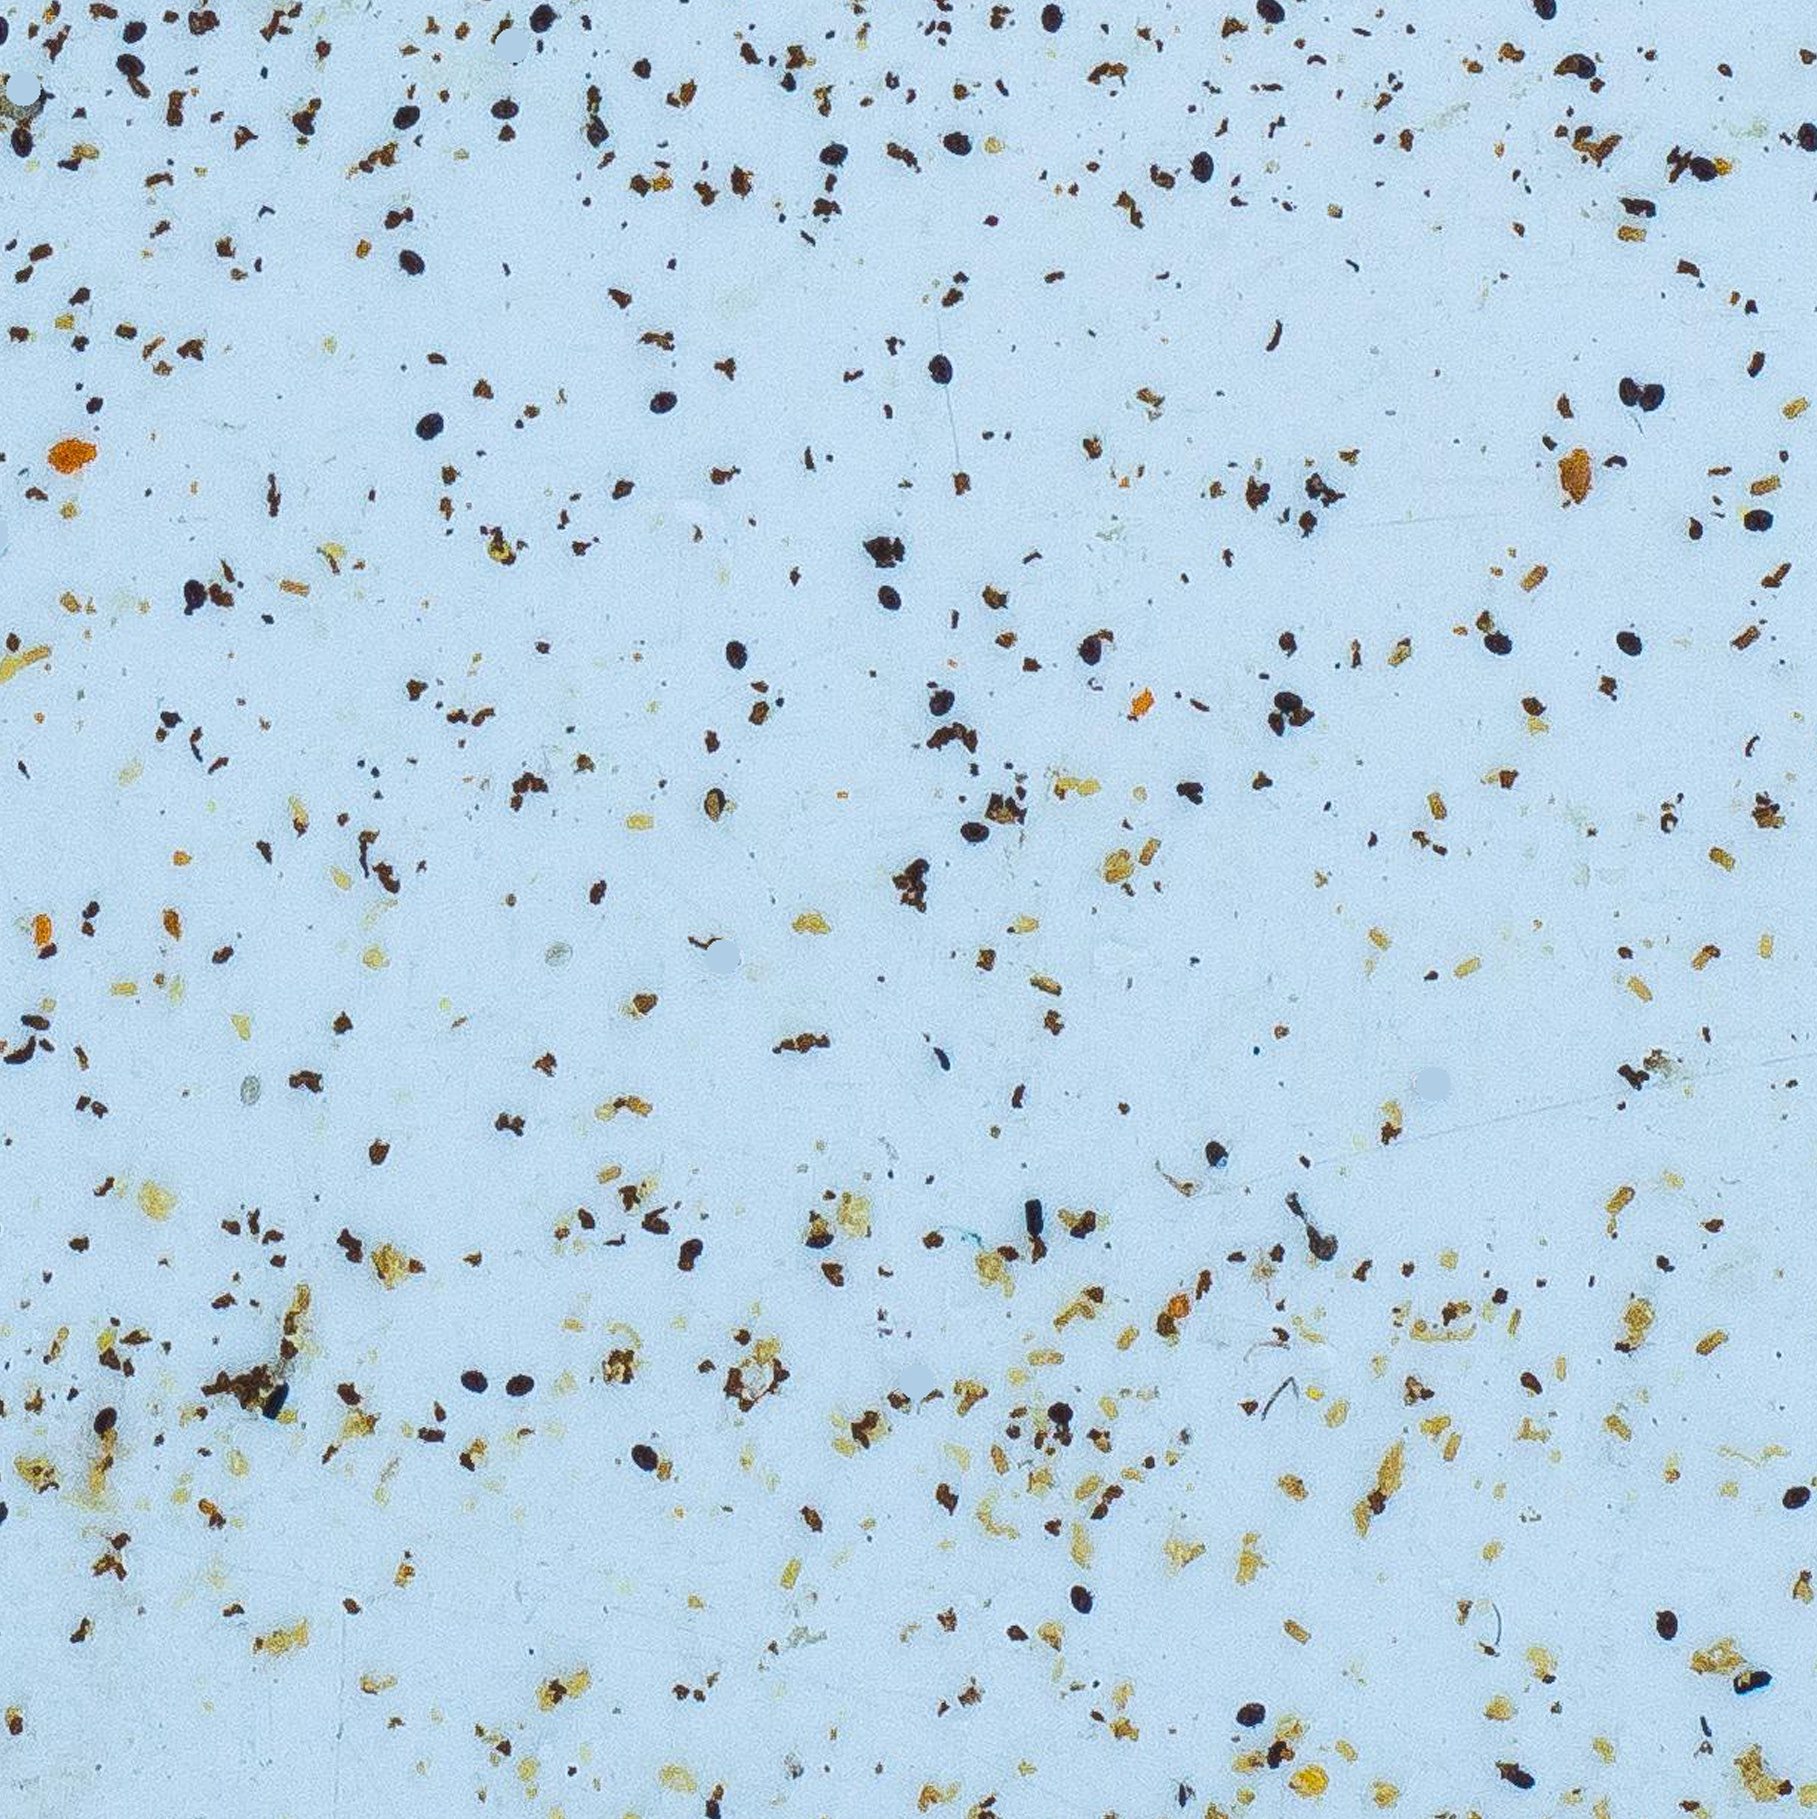Varroa: (671, 1228, 715, 1273), (176, 581, 211, 617), (815, 138, 849, 175), (1651, 1608, 1686, 1641), (413, 408, 446, 441), (1564, 52, 1597, 85), (696, 792, 729, 825), (1270, 682, 1301, 716), (113, 48, 145, 82), (920, 351, 952, 384), (942, 121, 973, 155), (877, 581, 908, 612), (720, 639, 752, 671), (88, 1400, 120, 1431), (1032, 7, 1063, 38), (1483, 627, 1513, 659), (488, 97, 517, 128), (1067, 1583, 1097, 1614), (957, 819, 987, 849), (1235, 1699, 1265, 1729), (8, 130, 38, 160), (1745, 499, 1775, 529), (922, 687, 952, 717), (1188, 151, 1218, 181), (398, 246, 426, 276), (1077, 636, 1105, 666), (389, 105, 418, 135), (647, 388, 676, 418), (1047, 1396, 1075, 1426), (1612, 371, 1641, 401), (459, 1365, 488, 1395), (1614, 631, 1642, 659), (121, 22, 150, 50), (1634, 379, 1662, 408), (631, 1441, 657, 1471), (1785, 1488, 1814, 1514), (511, 1371, 537, 1400), (1691, 156, 1717, 185)
